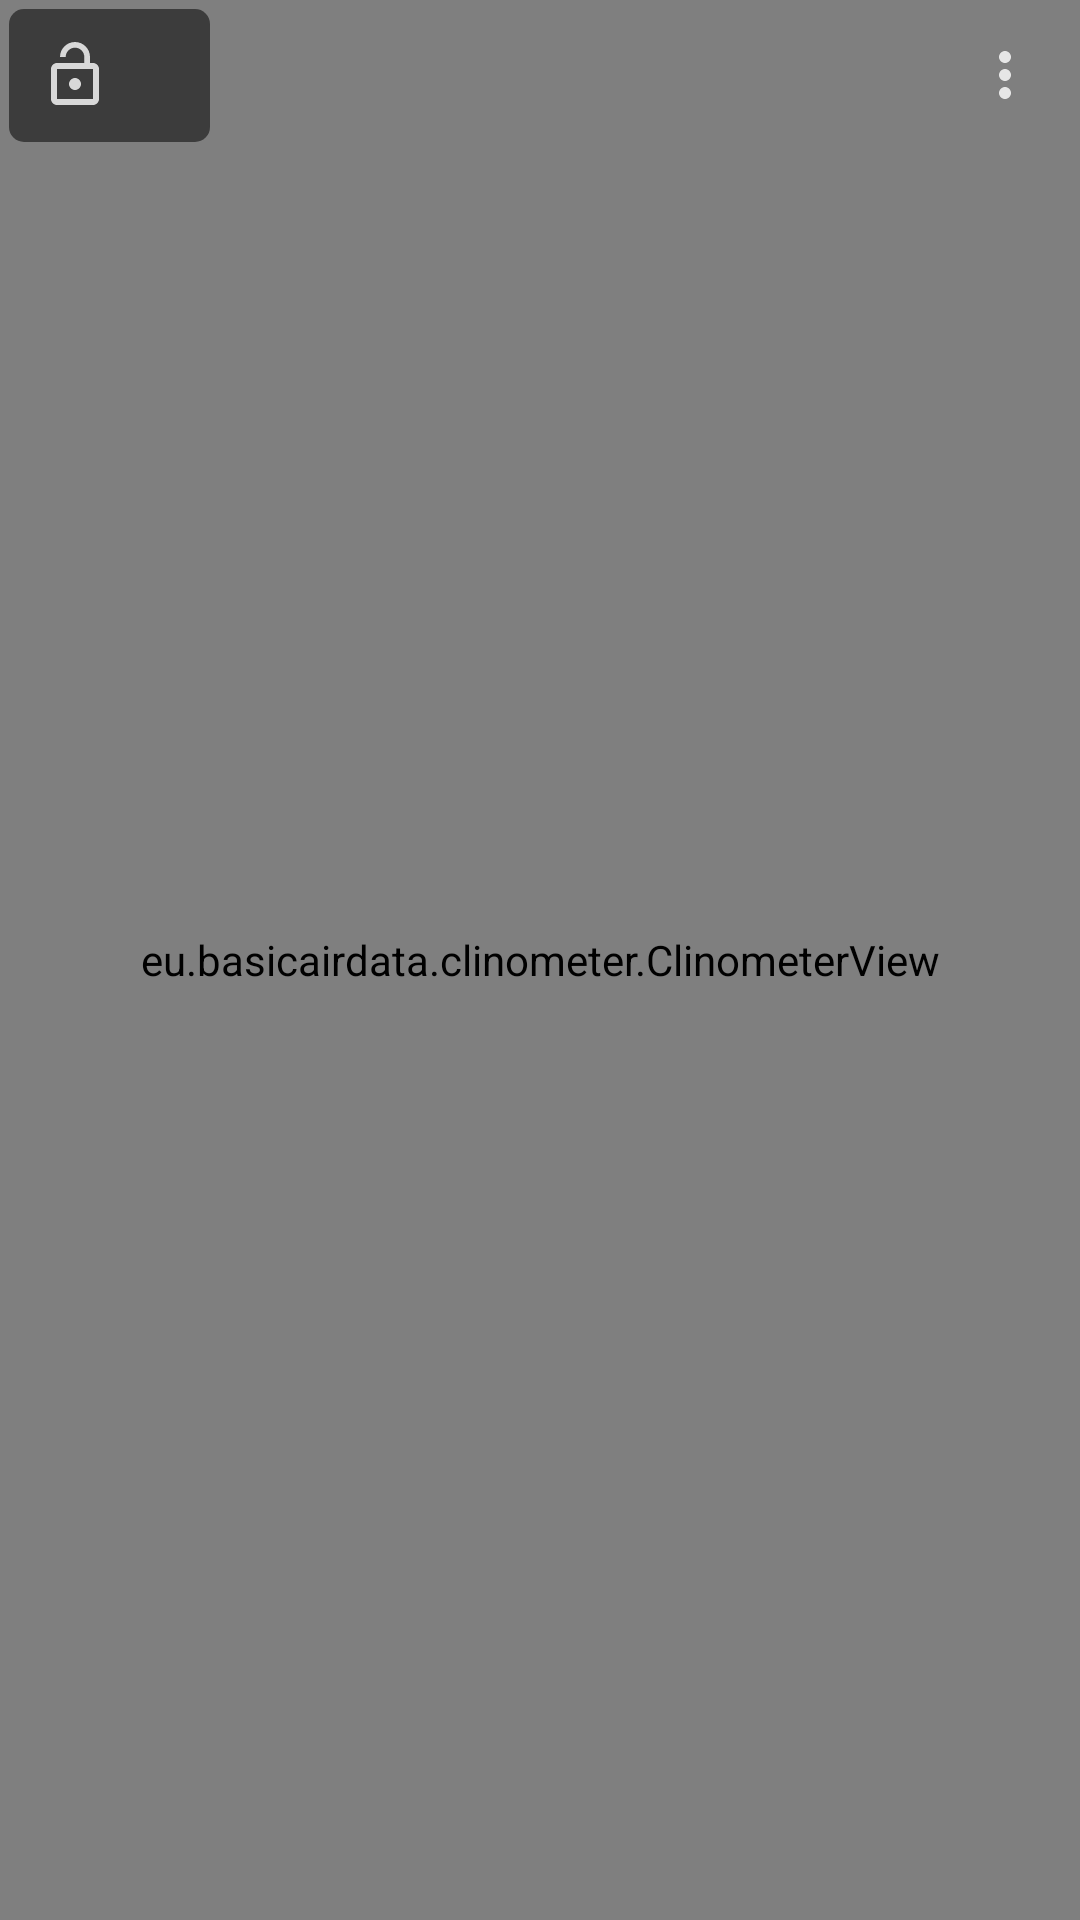

Screen size 1080px x 1920px. Icon name, then its box in pixels as (x1, y1, x2, y2):
lock open: (51, 42, 99, 105)
more: (999, 51, 1011, 99)
